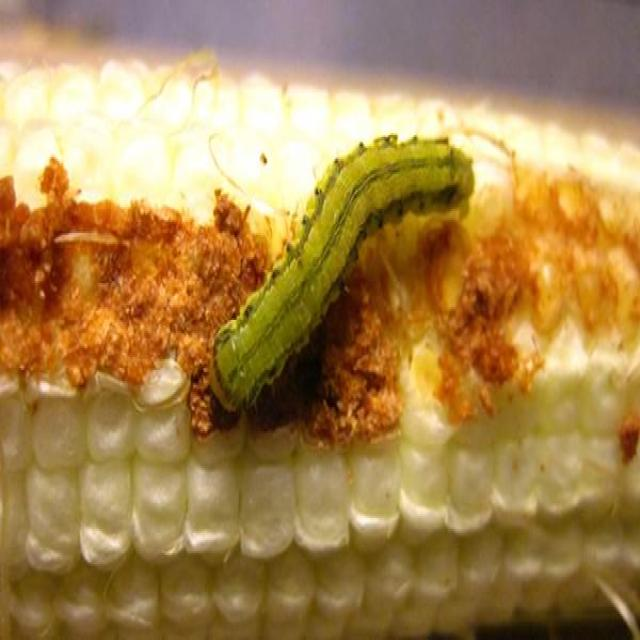worm: (208, 131, 476, 416)
